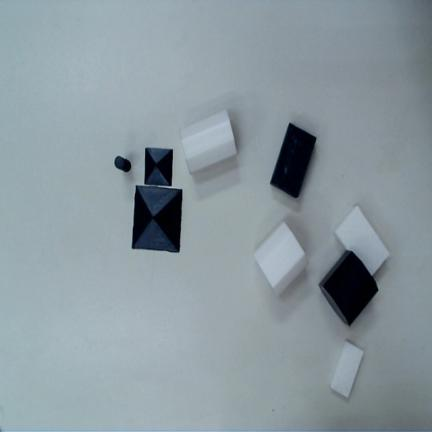Cilindro: (114, 156, 131, 172)
Paralelepipedo: (335, 206, 390, 275), (270, 123, 316, 199), (330, 340, 364, 398)
Piramide: (132, 185, 183, 253), (144, 148, 173, 186)
Prisma_hexagonal: (319, 250, 379, 328), (254, 222, 307, 294), (180, 109, 237, 174)
